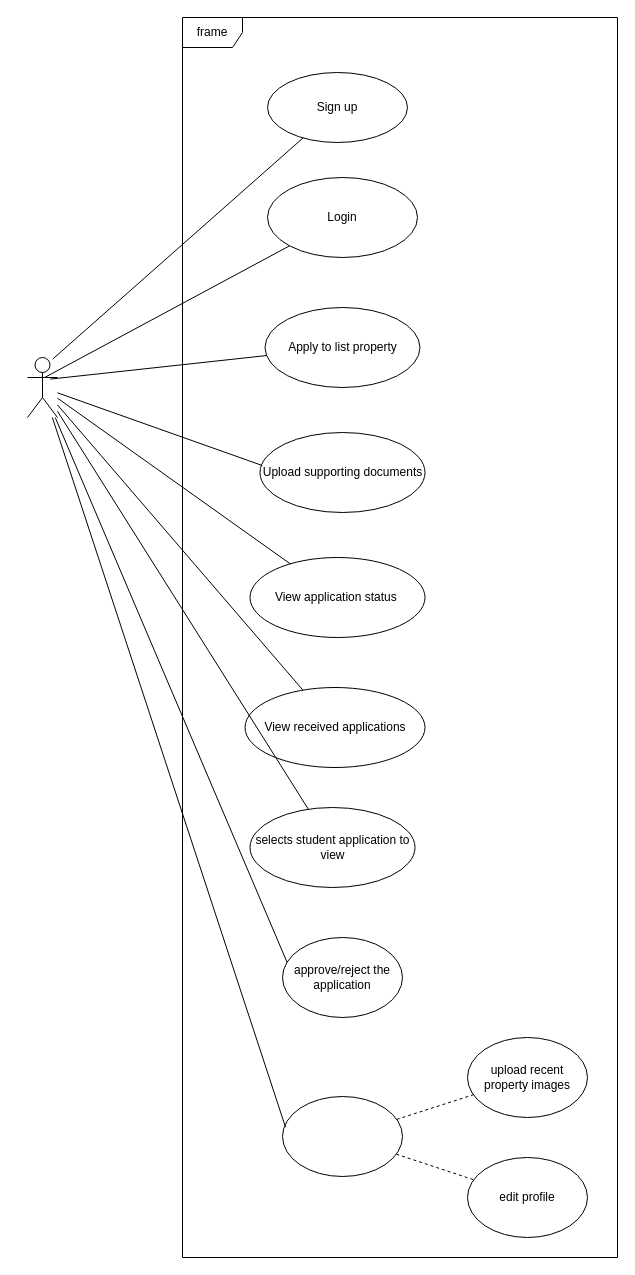
Image size: 635x1275. Some labels were removed from this diagram. The centre of each missing label's shape, as x and y in pixels:
"LandLord" belongs at pixel 42 387.
"Manage Account" belongs at pixel 342 1136.
